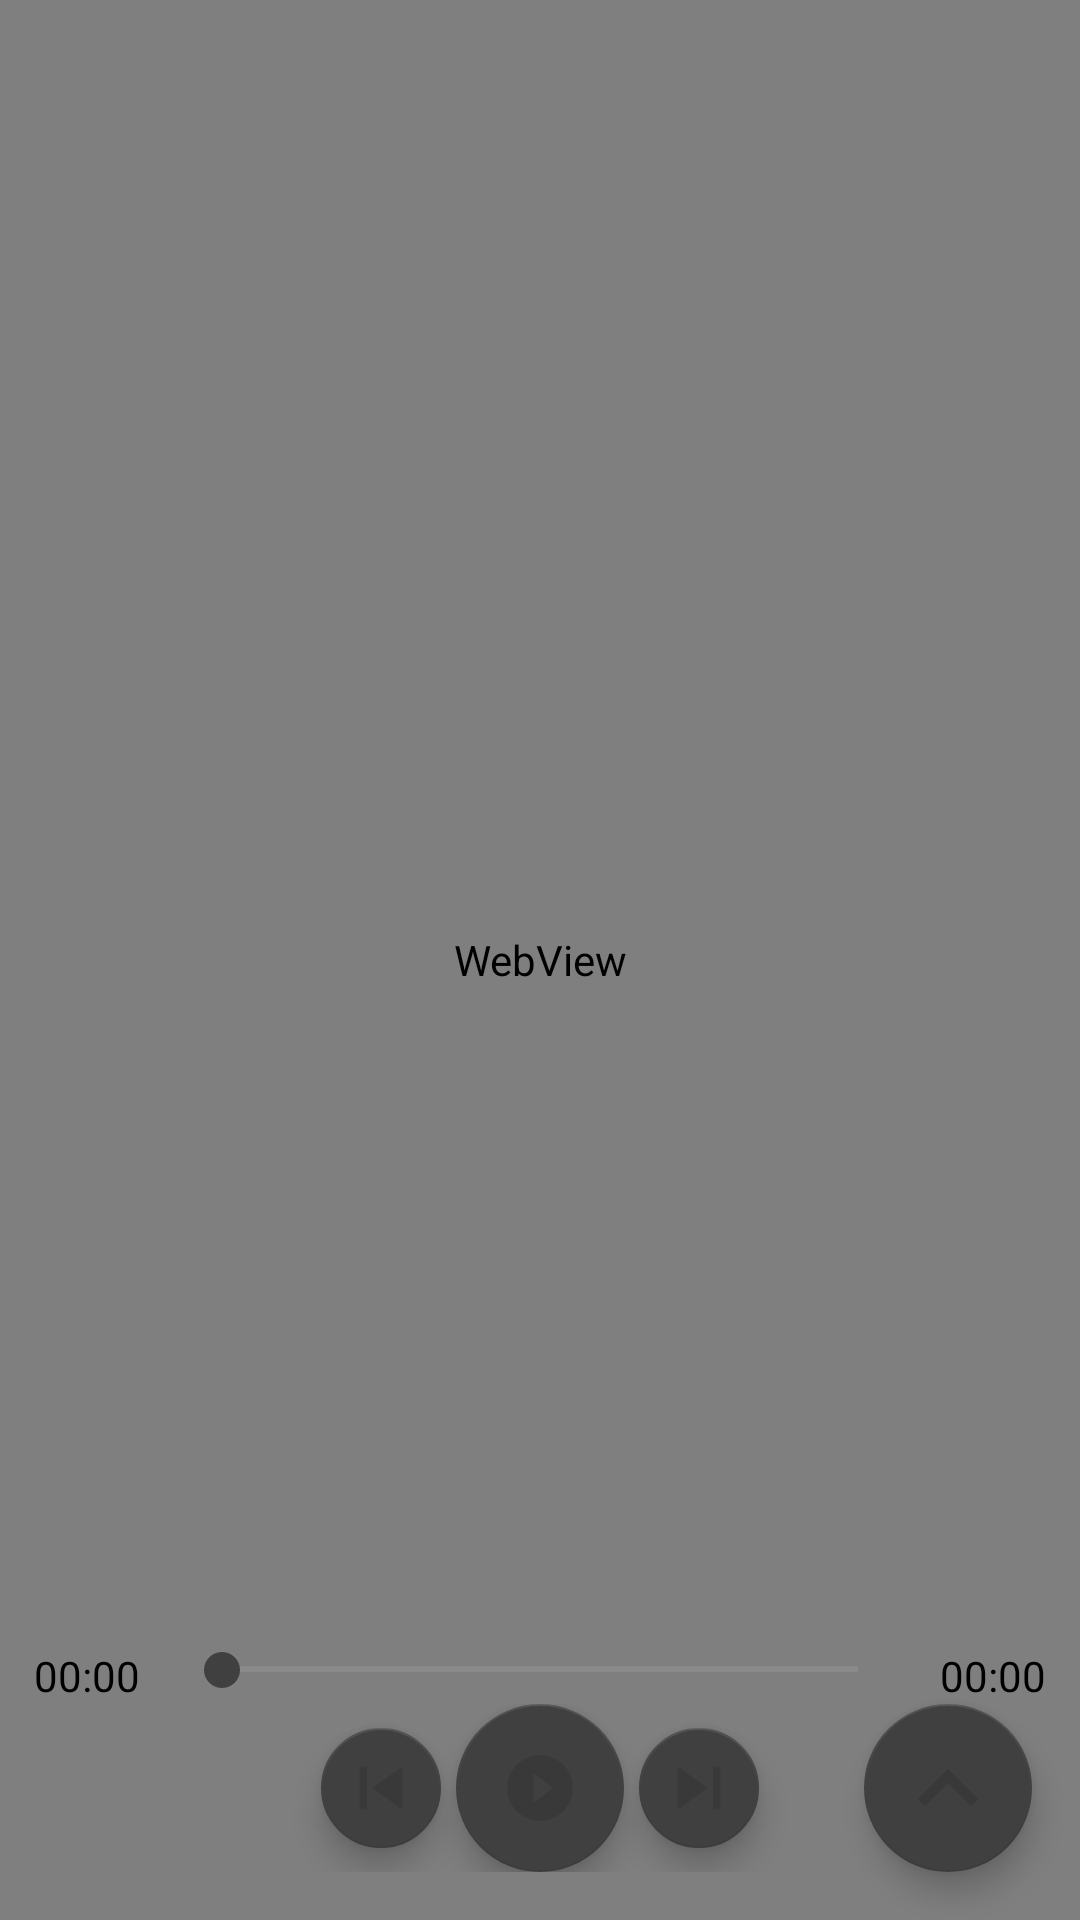

Icons on this 1080x1920 Android screen, each with its box as (x1, y1, x2, y2):
next: (639, 1728, 759, 1848)
play: (456, 1704, 624, 1872)
prev: (321, 1728, 441, 1848)
